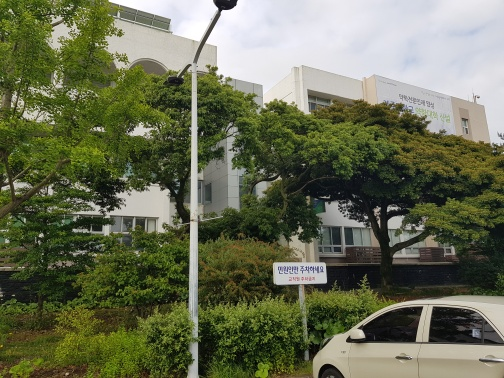Main Building of University: (110, 11, 491, 261)
